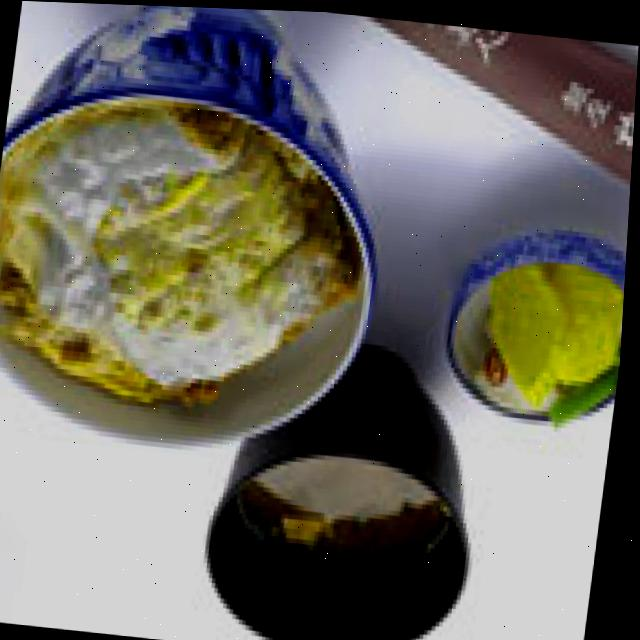汤锅炖物: (197, 446, 501, 640)
